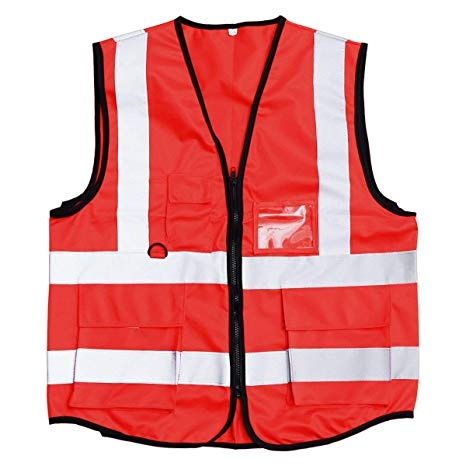safety vest: (49, 20, 427, 448)
